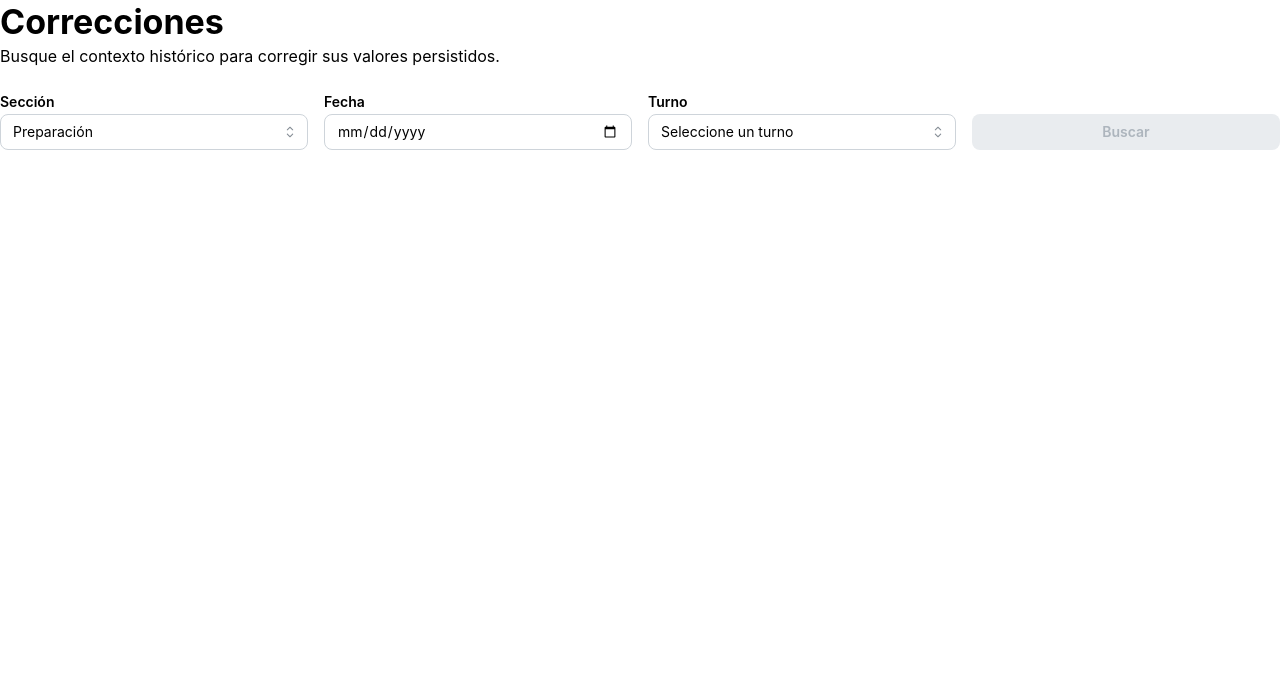
Test: CorrectionsWorkspace › keeps drafts locked until an explicit reread after conflict and shows the warning
The image size is (1280, 680).
Select "Continuas" in the dropdown labelled "Sección": (154, 132) [0,114,308,150]
In the date field labelled "Fecha": (478, 132) [324,114,632,150], type "2026-09-01"
Select "Turno A" in the dropdown labelled "Turno": (802, 132) [648,114,956,150]
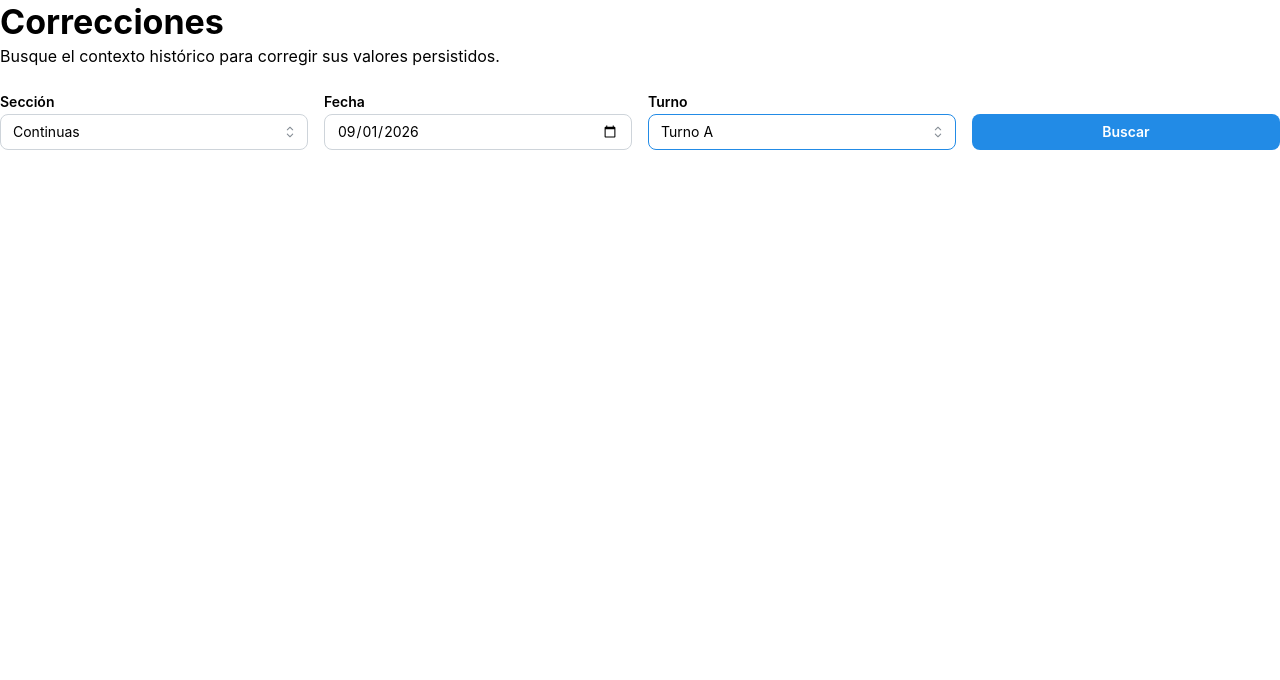
Click the button "Buscar": (1126, 132) [972,114,1279,150]
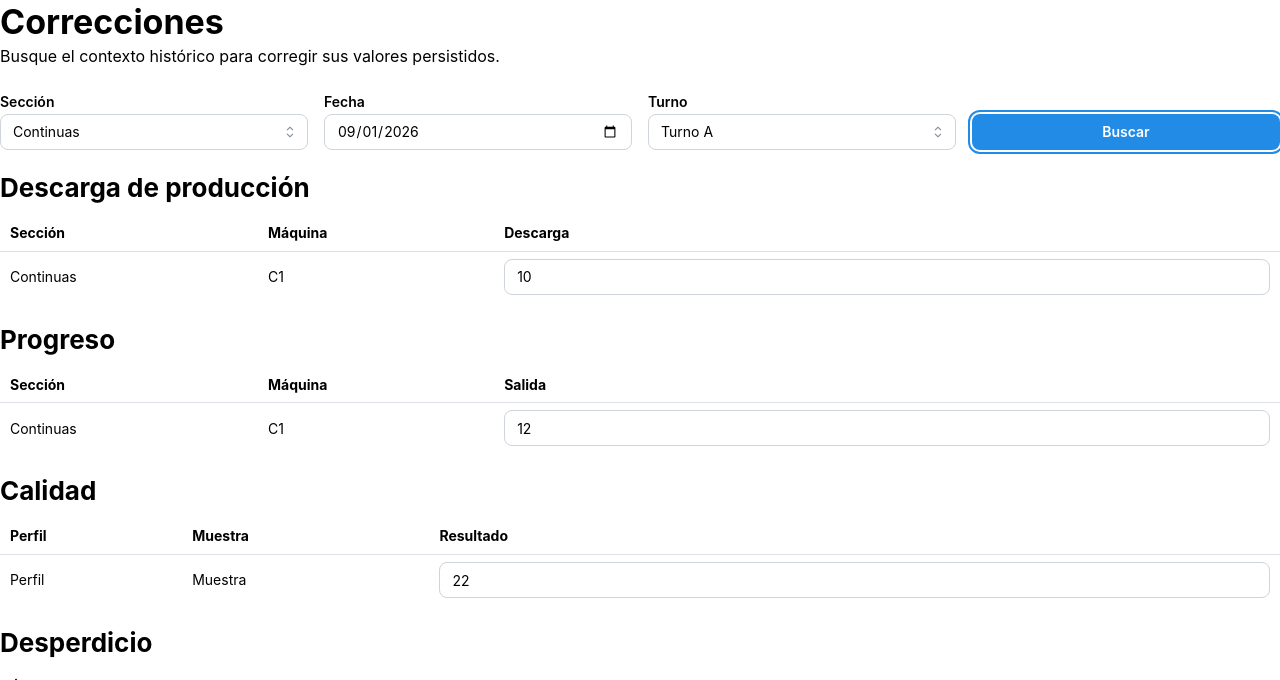
Replace the text in the field named "Progreso Salida" with "10": (887, 428) [504,410,1270,446]
(page scrolled)
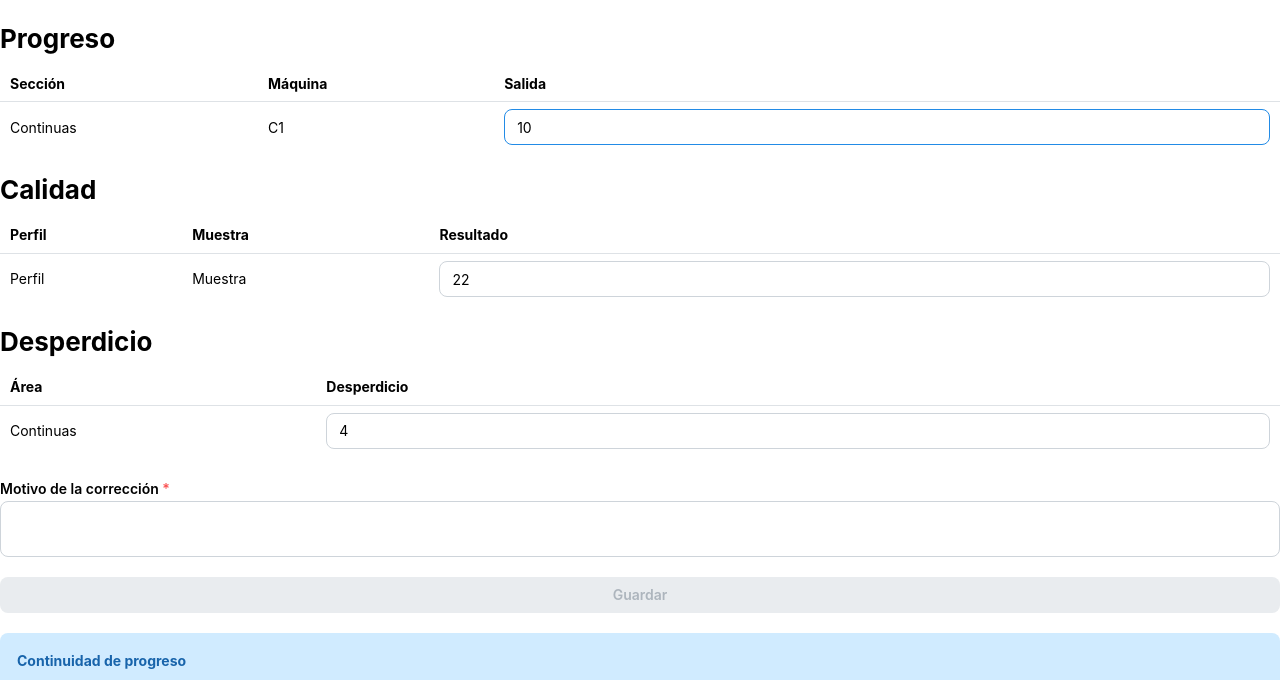
In the text box labelled "Motivo de la corrección *": (640, 529) [0,501,1279,557], type "Motivo"
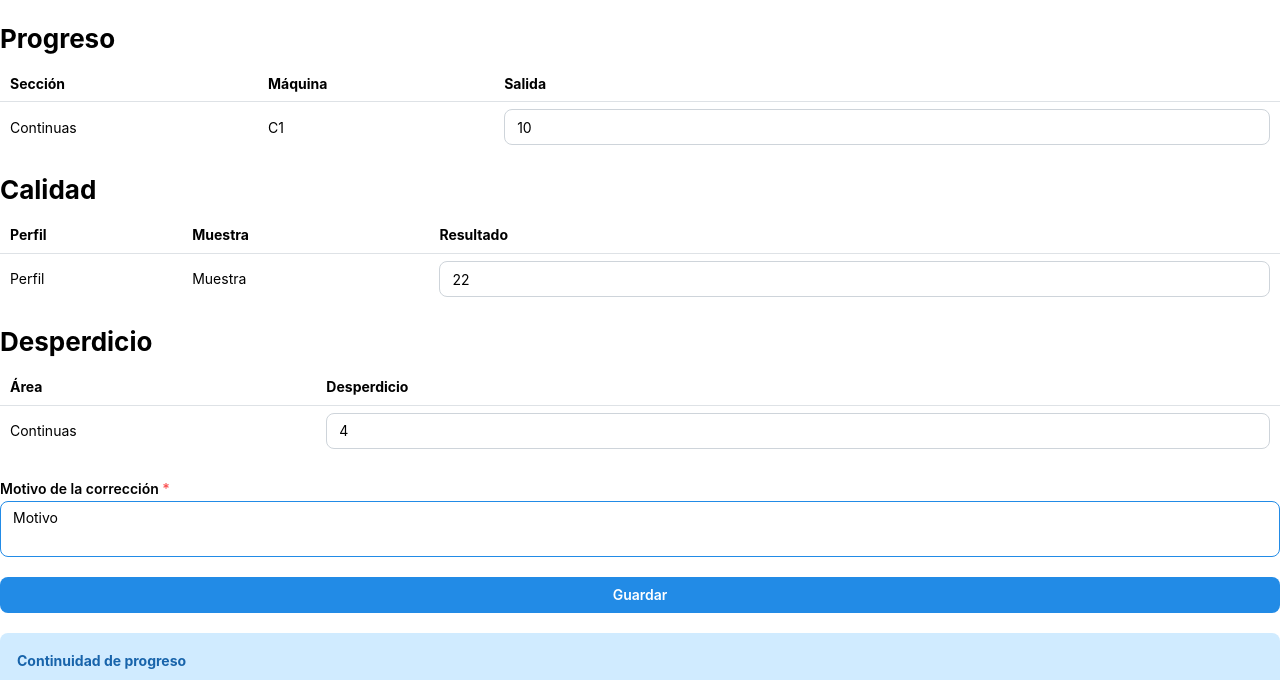
Click the button "Guardar": (640, 595) [0,577,1279,613]
(page scrolled)
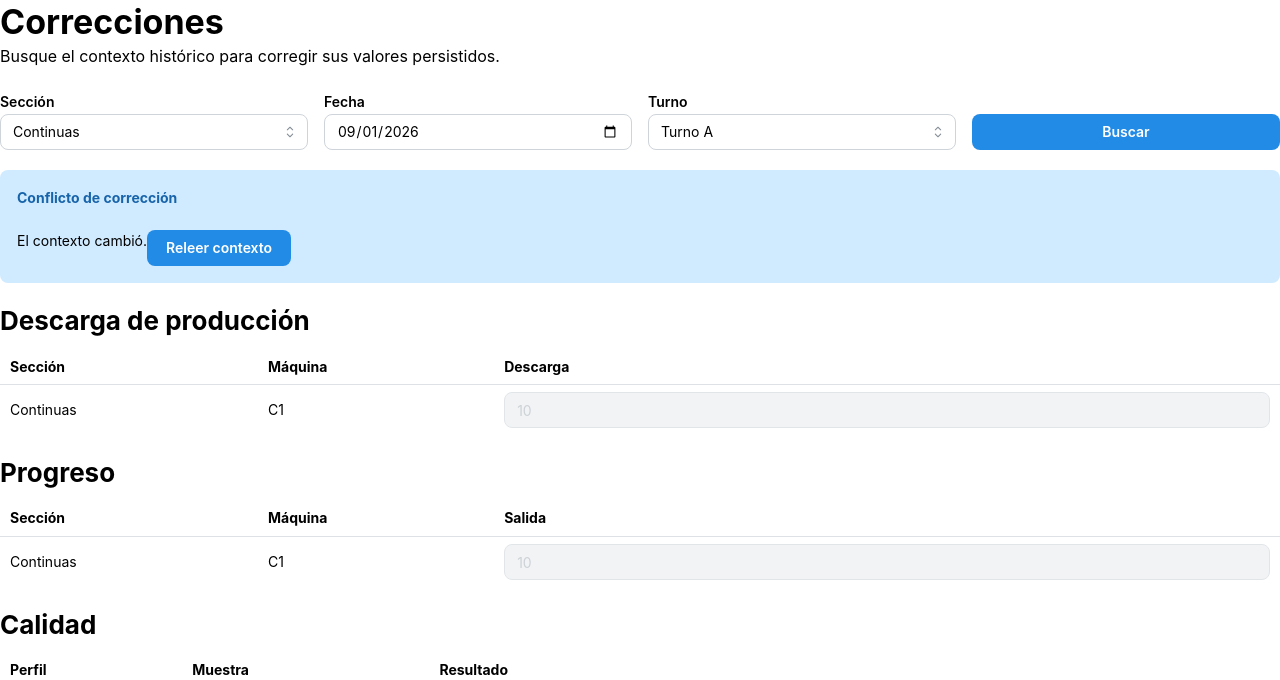
Check: the text "El contexto cambió." is shown, box [17,232,147,249]
Click the button "Releer contexto": (219, 248) [147,230,291,266]
(page scrolled)
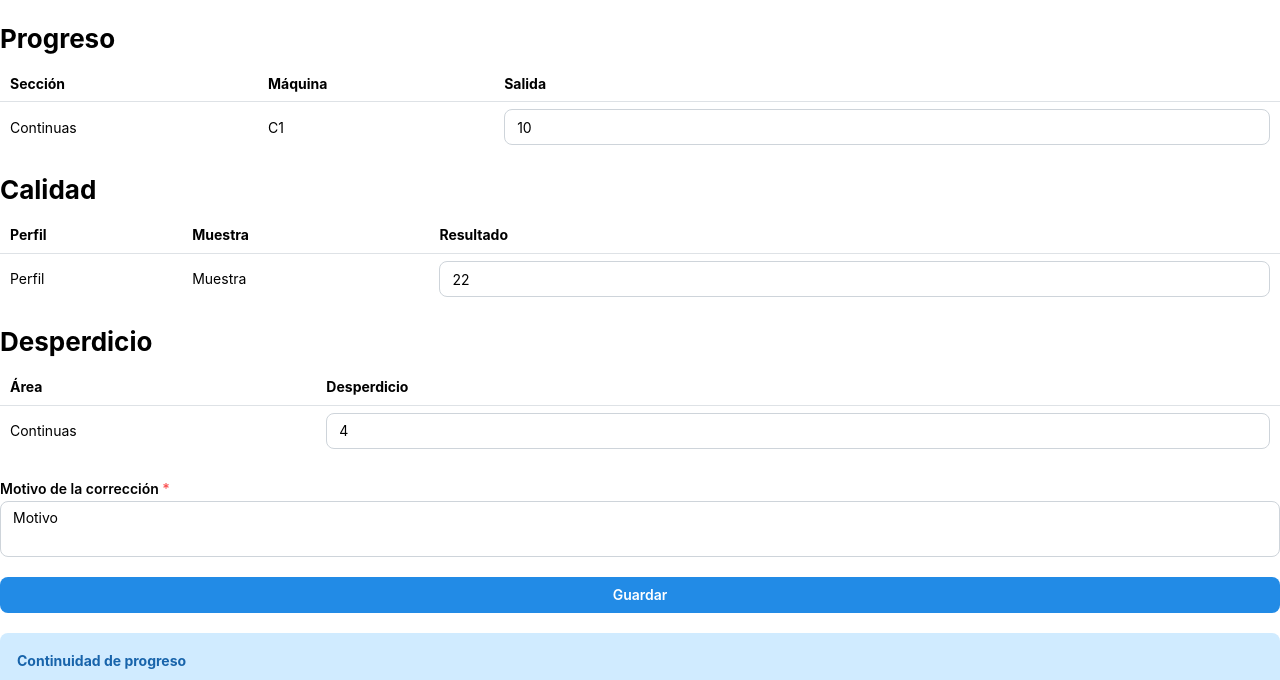
Check: the button "Guardar" is enabled, box [0,577,1279,613]
